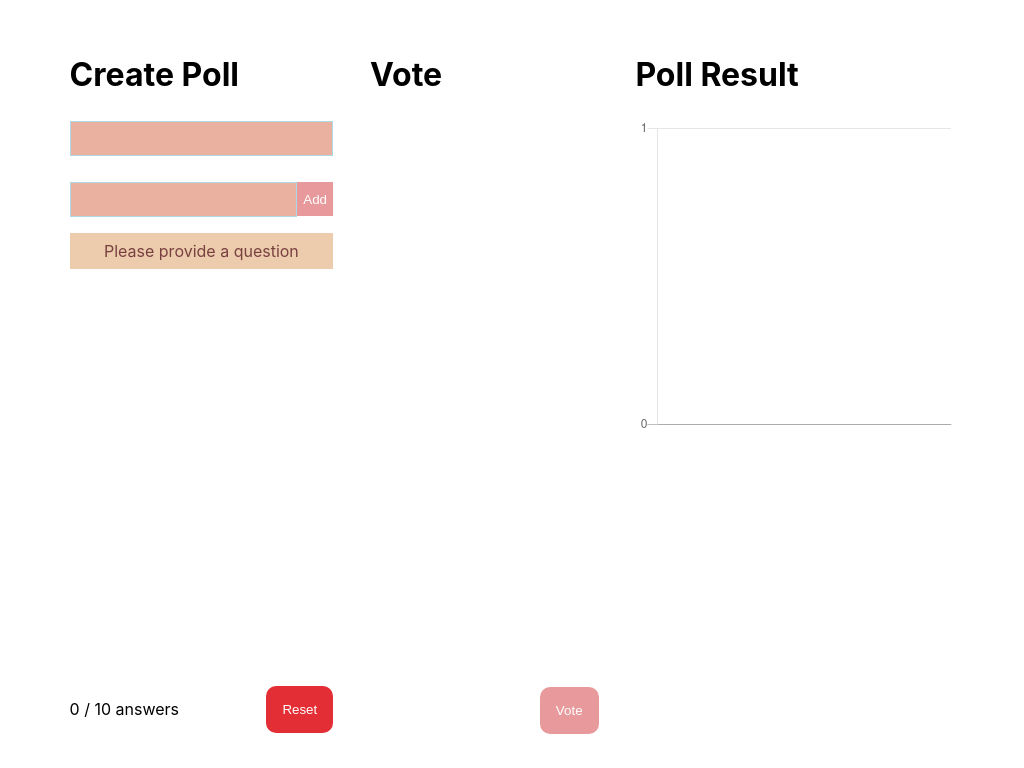
Test case: Poll app › poll question and answer form test › should create an answer after writing an answer and clicking add button
The image size is (1024, 768).
In the 1st field: (202, 139) [70,121,334,156], type "Test question"
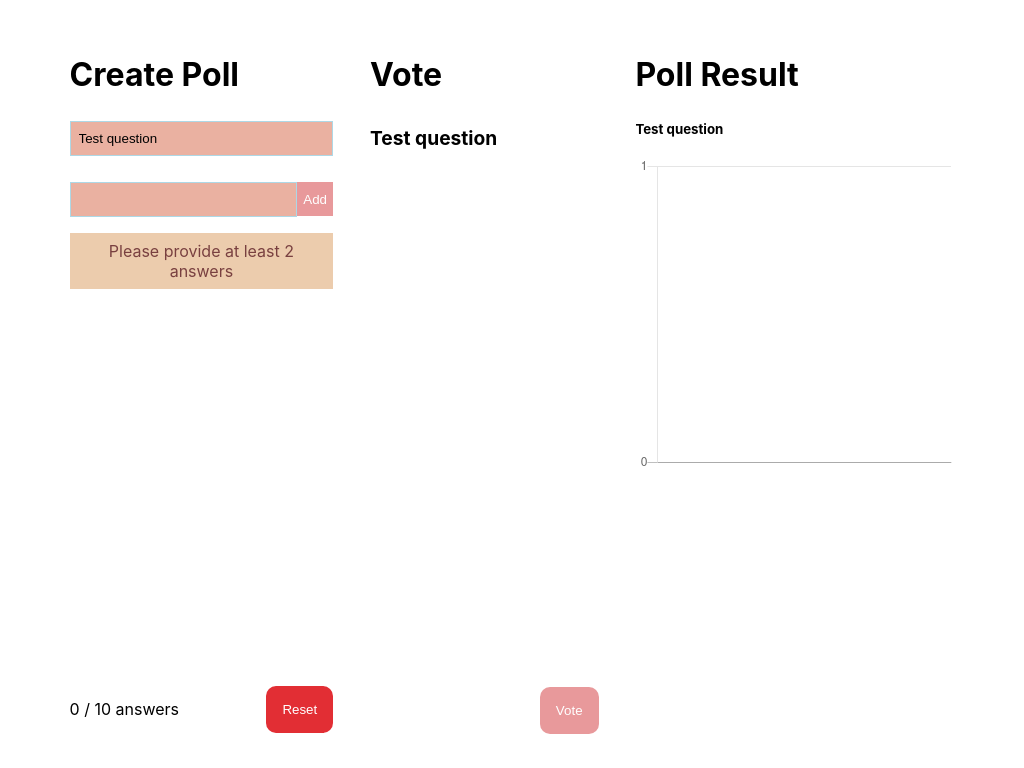
In the 2nd field: (184, 200) [70,182,298,217], type "Test answer 1"
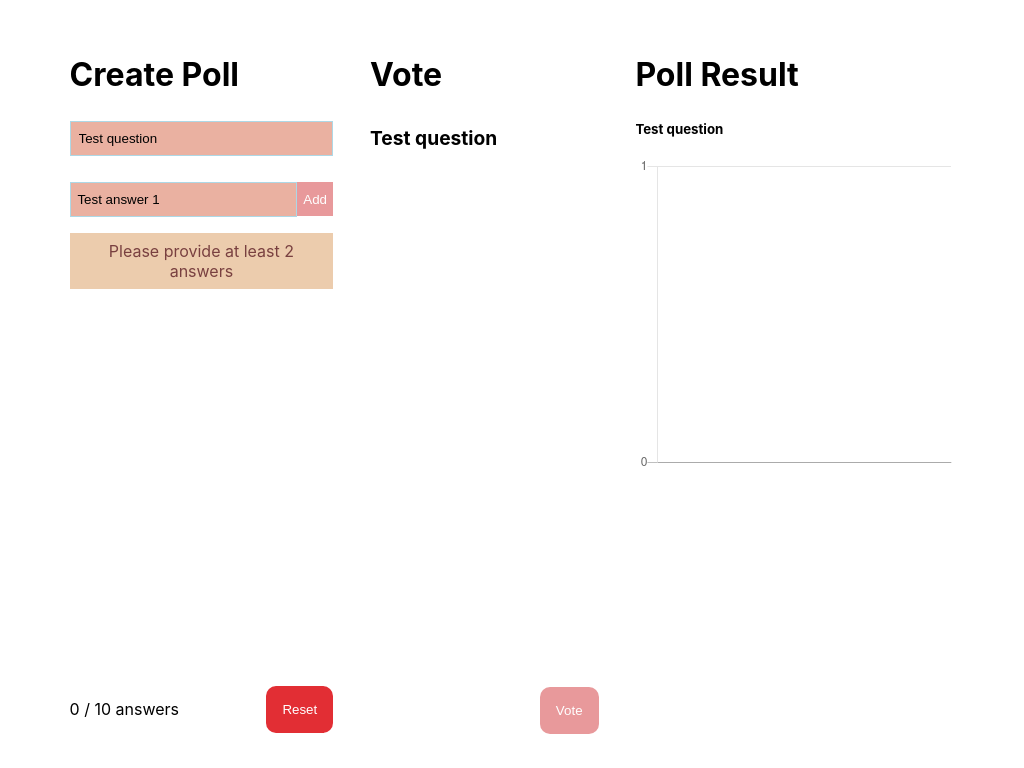
Click the button "Add": (315, 199) [297,182,333,216]
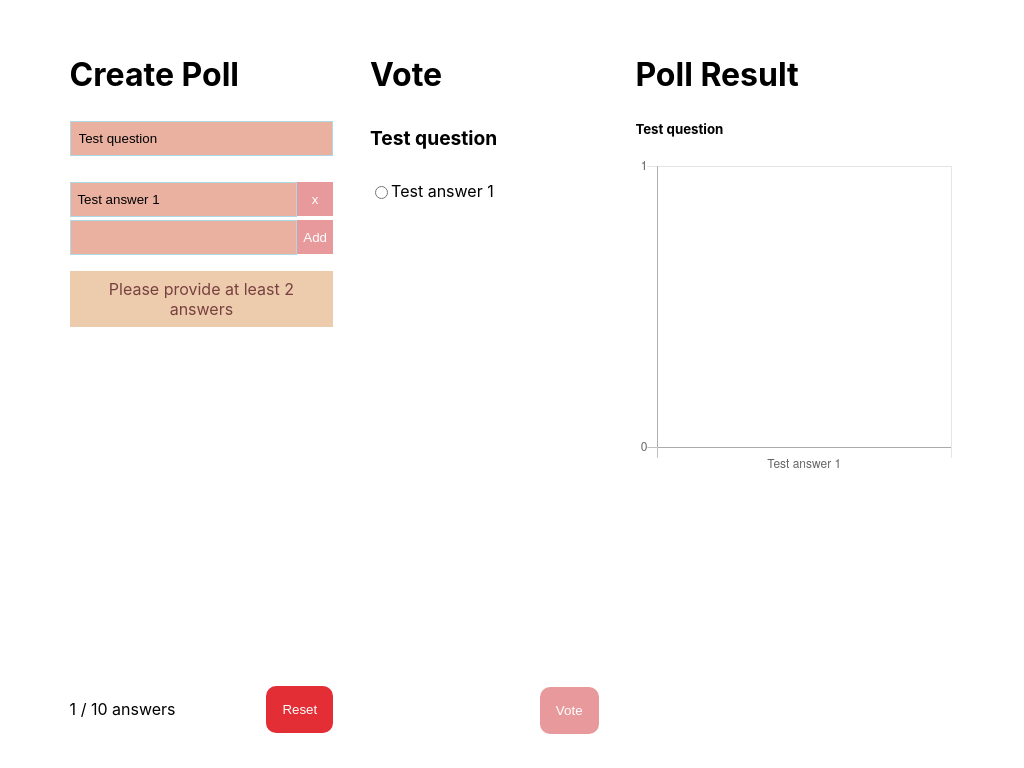
Check: the number of elements with class "answers_item" is 1, box [70,182,334,217]
